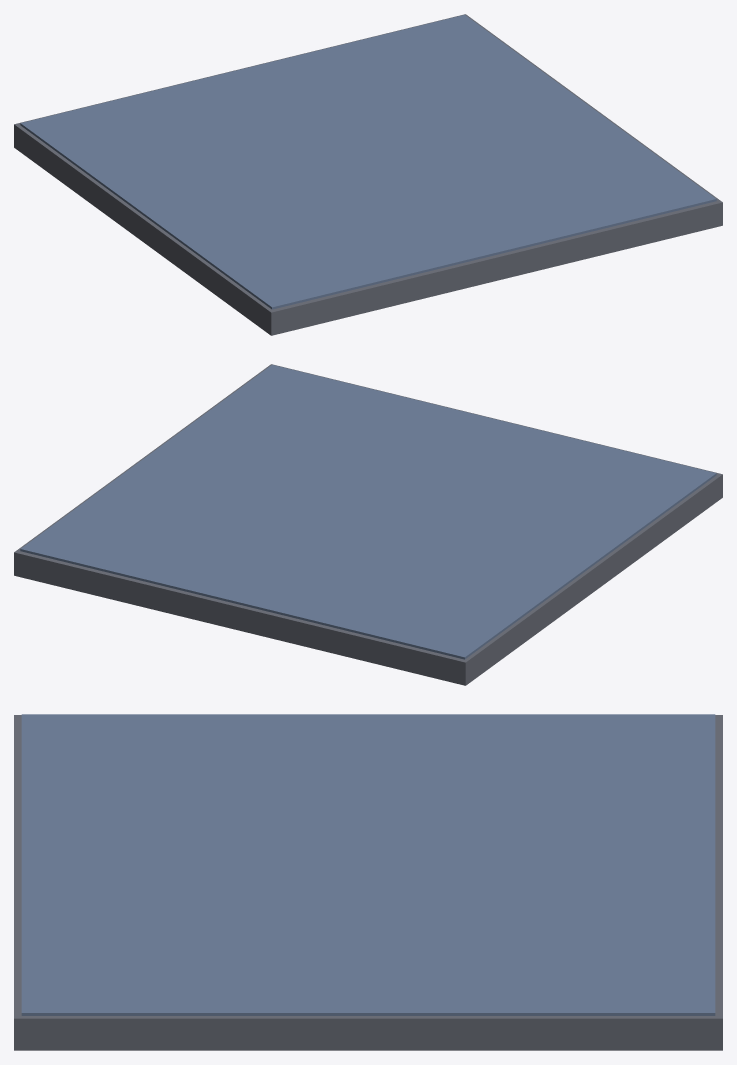
Rendered from 01_floor_pad.glb.
The picture shows the model from 3 angles, top to bottom: view 1: azimuth 30°, elevation 25°; view 2: azimuth 150°, elevation 25°; view 3: azimuth 270°, elevation 25°; orthographic projection. The views are drawn at different scales.
Visible parts, largest first — view 1: part_2.001, part_1.001; view 2: part_2.001, part_1.001; view 3: part_2.001, part_1.001.
Part boxes in pixels (<box>): part_2.001: <box>20,15,716,309</box>; part_1.001: <box>14,14,722,335</box>; part_2.001: <box>20,365,716,659</box>; part_1.001: <box>14,364,722,685</box>; part_2.001: <box>21,714,715,1015</box>; part_1.001: <box>14,715,722,1050</box>.
Bounding box in the file's own units: 2.01 × 0.1087 × 1.99.
